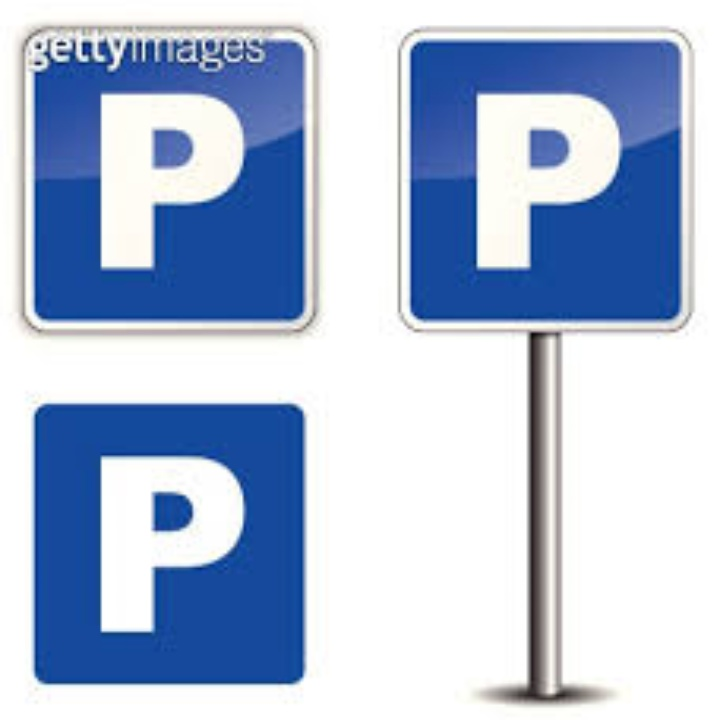parking: (467, 87, 630, 278), (92, 448, 250, 640), (92, 83, 247, 277)
